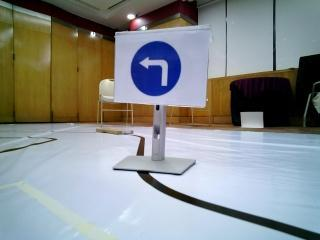left: (115, 30, 203, 102)
